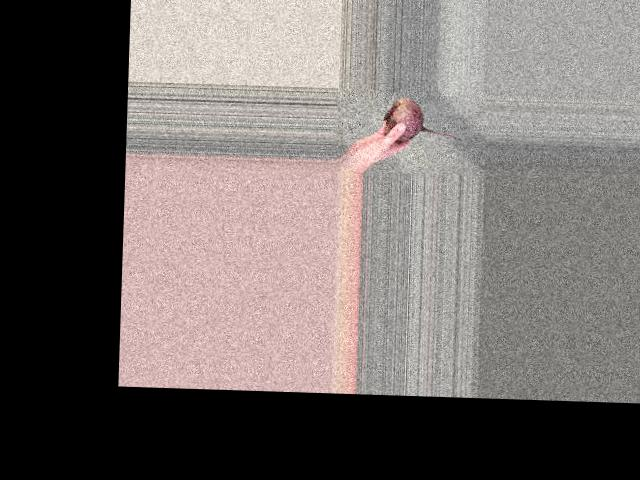beet: (383, 97, 462, 142)
